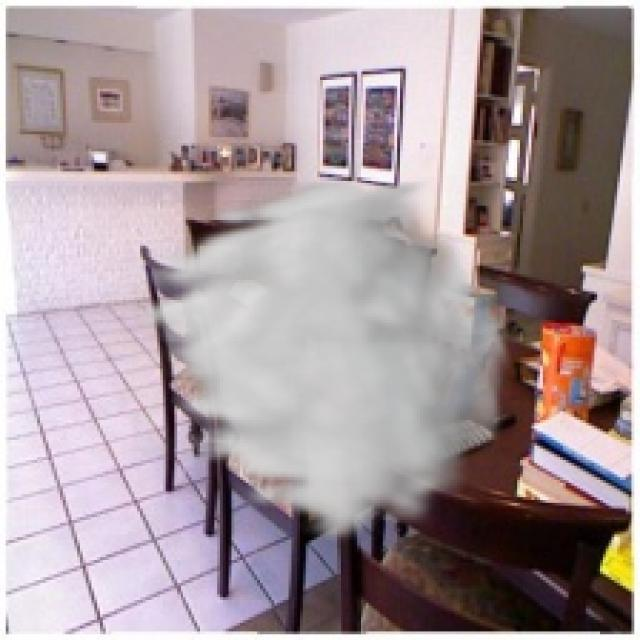Smoke: (120, 174, 517, 546)
